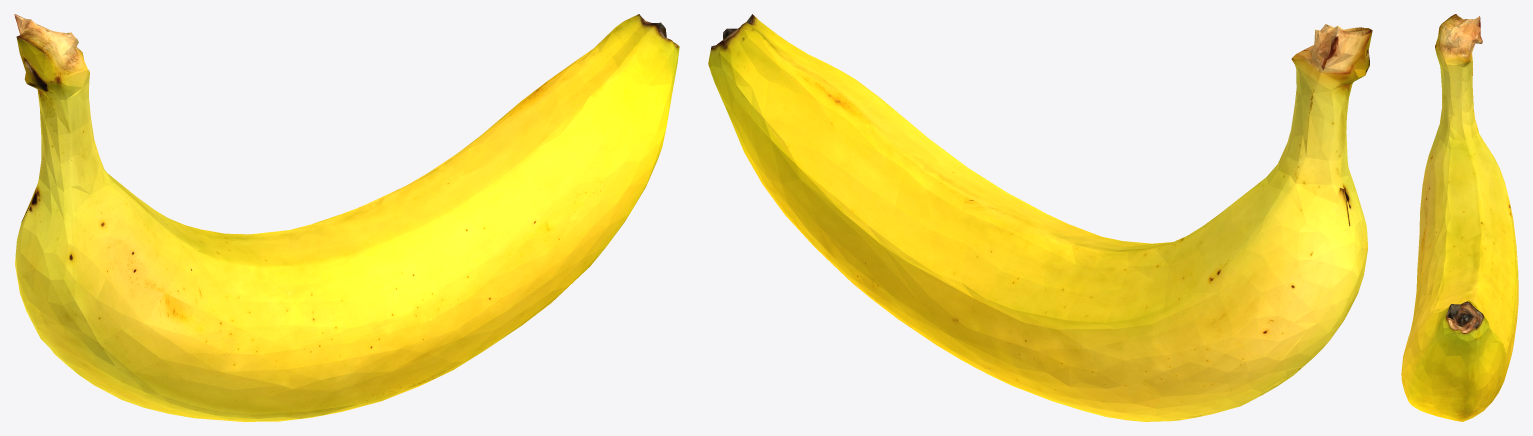
The model's file is banana.glb.
The picture shows the model from 3 angles, left to right: view 1: azimuth 30°, elevation 25°; view 2: azimuth 150°, elevation 25°; view 3: azimuth 270°, elevation 25°; orthographic projection. The views are drawn at different scales.
Visible parts, largest first — view 1: banana; view 2: banana; view 3: banana.
Part boxes in pixels (x1,y1,x2,y2): banana: [14, 14, 679, 421]; banana: [708, 14, 1372, 421]; banana: [1401, 14, 1518, 421].
Size of the model in its own units: 6.79 by 4.44 by 1.62.
1 material, 1 textured.
